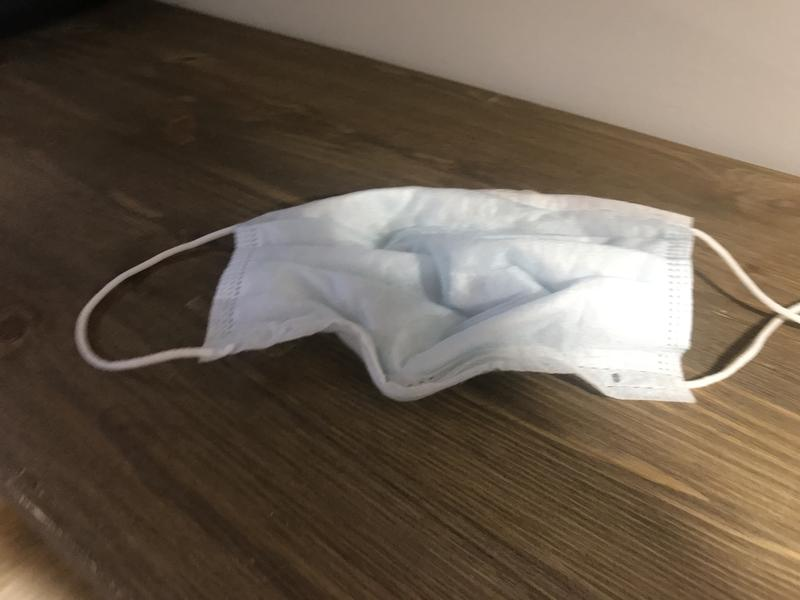medical_mask: (74, 184, 800, 401)
